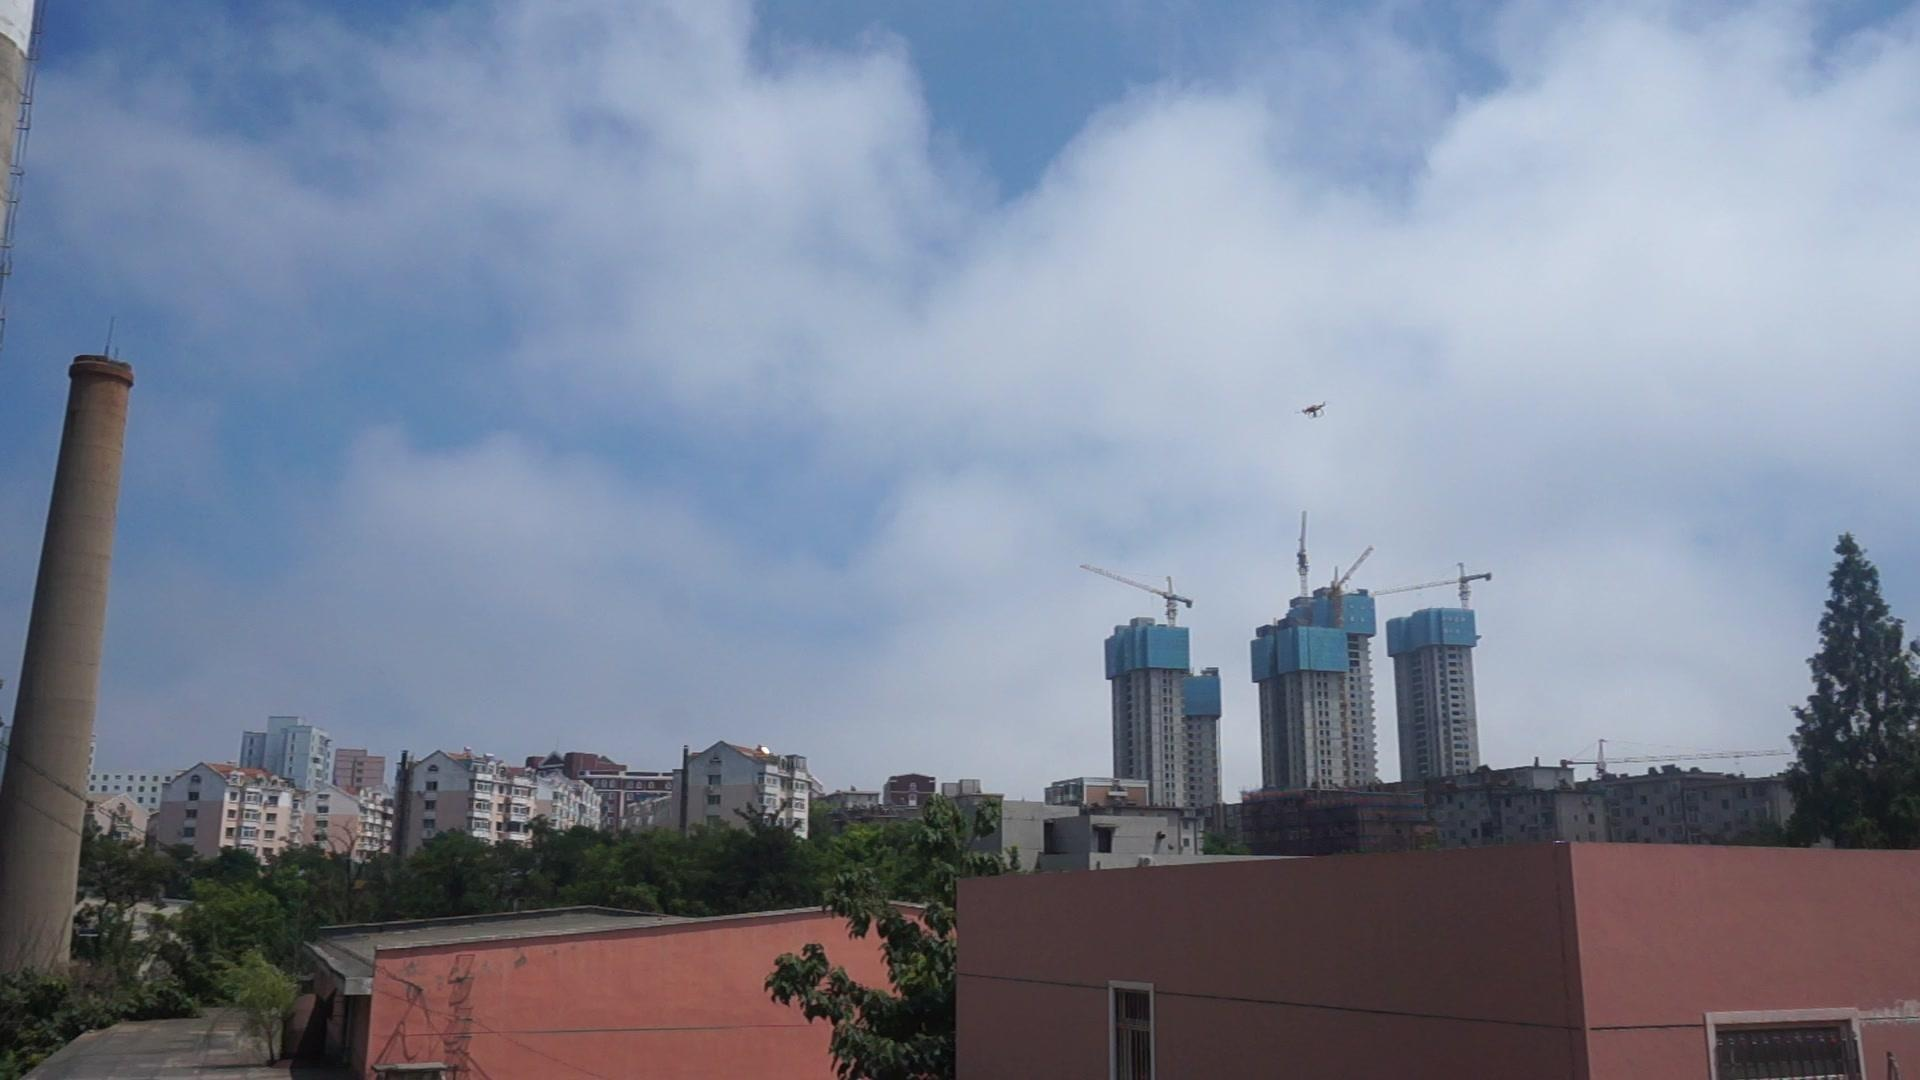UAV: (1296, 401, 1329, 419)
